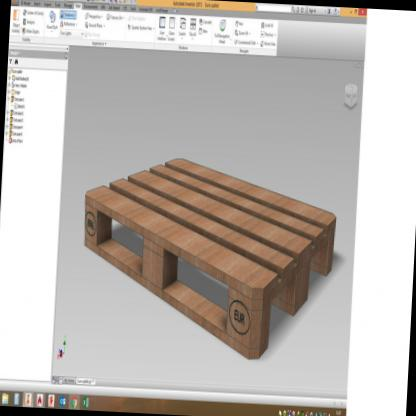BoxFace: (81, 154, 338, 365)
